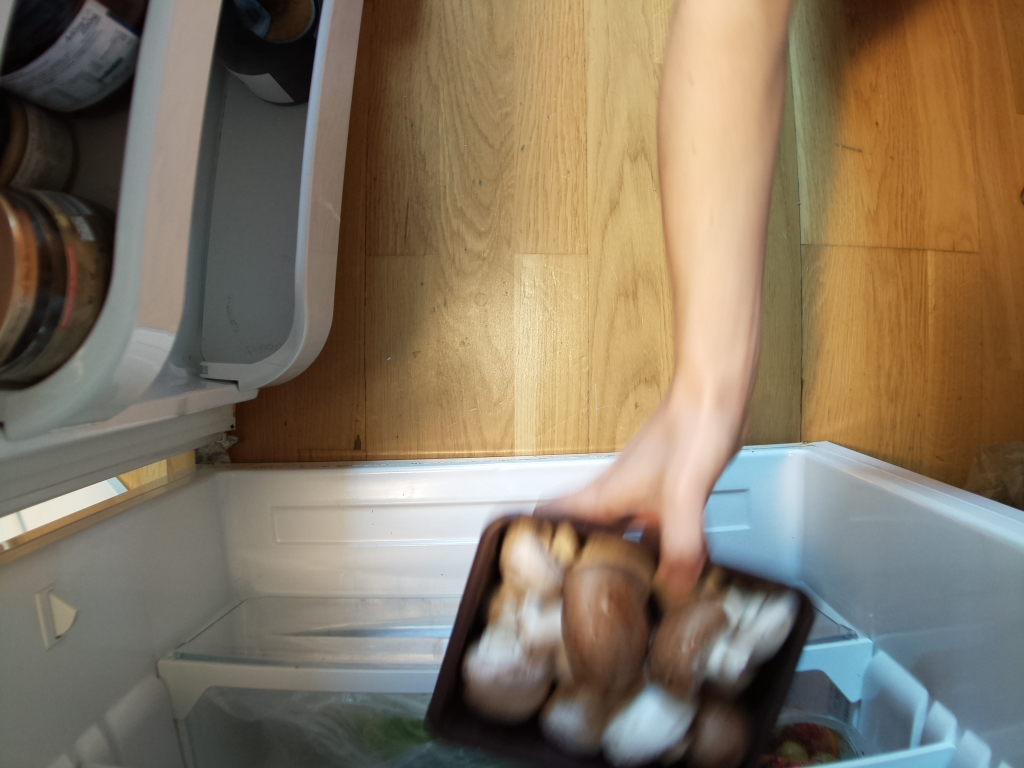mushrooms: (432, 516, 813, 768)
